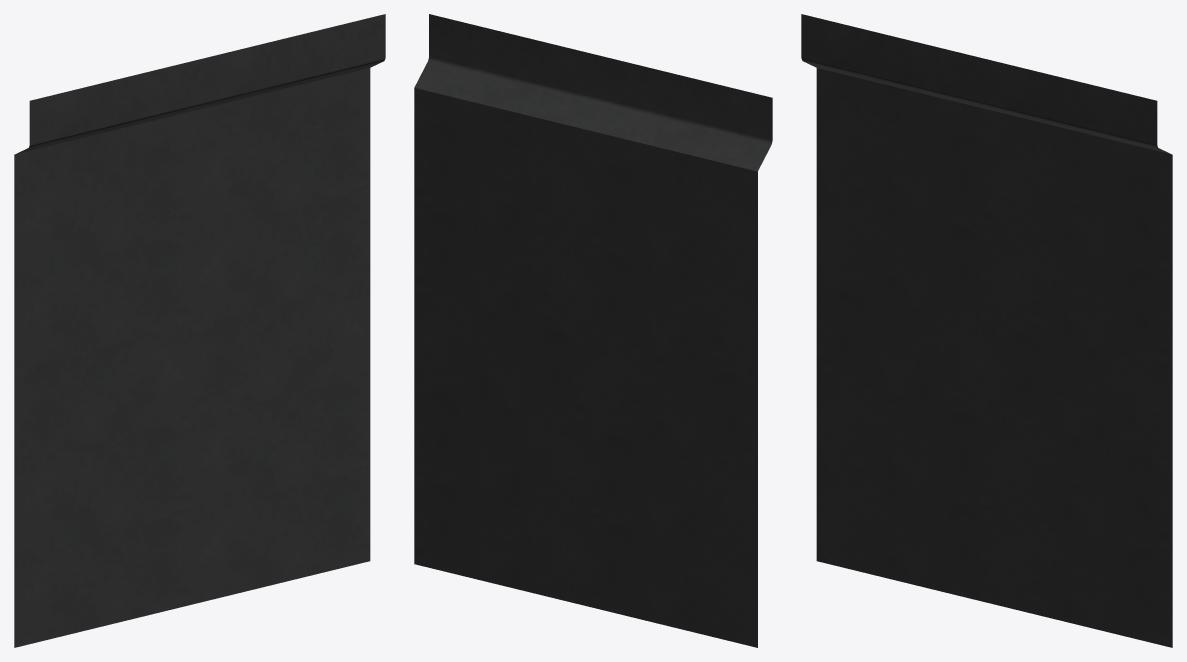
Rendered from M_Wall_Uper Half_4x20-14_v2.fbx.
3 views of the same model, side by side, from view 1: azimuth 30°, elevation 25°; view 2: azimuth 150°, elevation 25°; view 3: azimuth 330°, elevation 25° (orthographic). The views are drawn at different scales.
Parts seen in each view (by area): view 1: Wall_Upper_Part_4x20_14_v2; view 2: Wall_Upper_Part_4x20_14_v2; view 3: Wall_Upper_Part_4x20_14_v2.
Boxes of the visible parts, bbox=[...] form: Wall_Upper_Part_4x20_14_v2: bbox=[14, 14, 385, 647]; Wall_Upper_Part_4x20_14_v2: bbox=[414, 14, 772, 647]; Wall_Upper_Part_4x20_14_v2: bbox=[801, 14, 1172, 647].
Bounding box in the file's own units: 400 × 600 × 30.
